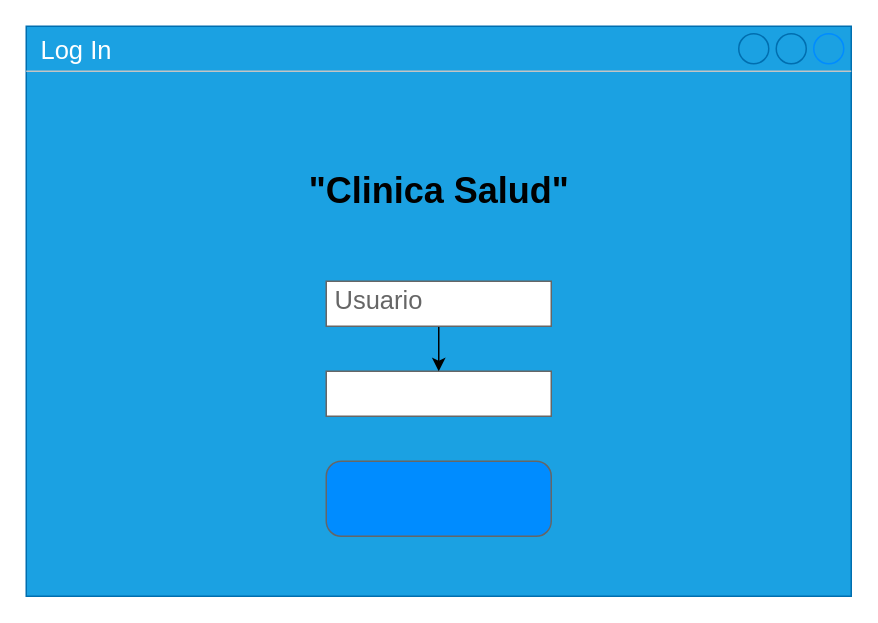
The diagram is 878 pixels wide and 623 high, and some of its shapes have lost their labels. Here are the shapes that lost their labels. From the top down, the box of each, then its label:
(325, 370, 551, 416): Contraseña
(325, 460, 551, 536): Ingresar
